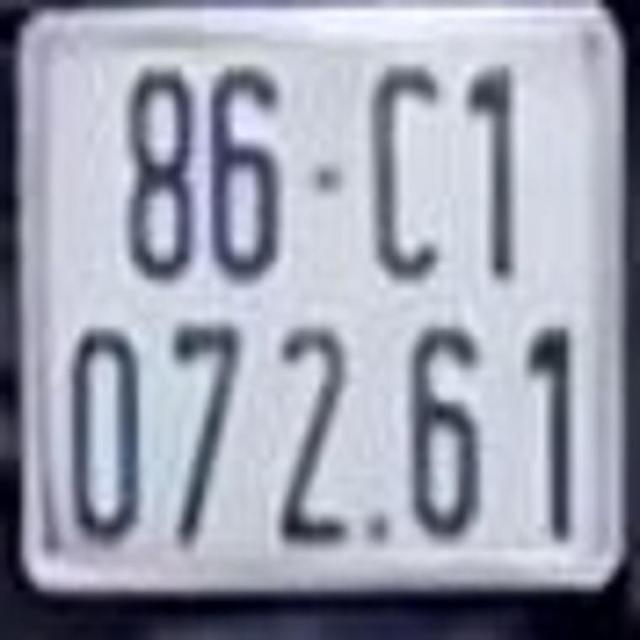0: (67, 321, 141, 537)
1: (458, 59, 520, 284), (524, 322, 576, 543)
2: (274, 318, 354, 538)
6: (205, 60, 286, 279), (405, 316, 480, 535)
7: (165, 316, 239, 542)
8: (117, 56, 195, 279)
C: (363, 59, 445, 287)
